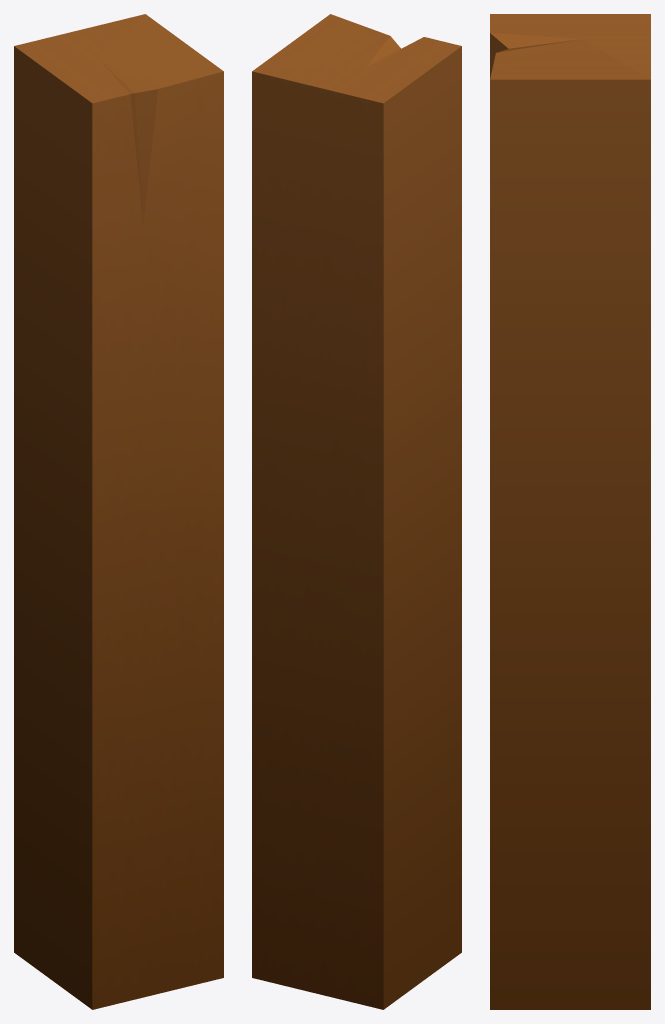
The model's file is Fence_Post_A.fbx.
3 views of the same model, side by side, from view 1: azimuth 30°, elevation 25°; view 2: azimuth 150°, elevation 25°; view 3: azimuth 270°, elevation 25° (orthographic). The views are drawn at different scales.
Visible parts, largest first — view 1: Fence_Post_A; view 2: Fence_Post_A; view 3: Fence_Post_A.
Part boxes in pixels (<box>): Fence_Post_A: <box>14,14,223,1009</box>; Fence_Post_A: <box>252,14,461,1009</box>; Fence_Post_A: <box>490,14,650,1009</box>.
Size of the model in its own units: 19.65 by 129 by 20.3.
